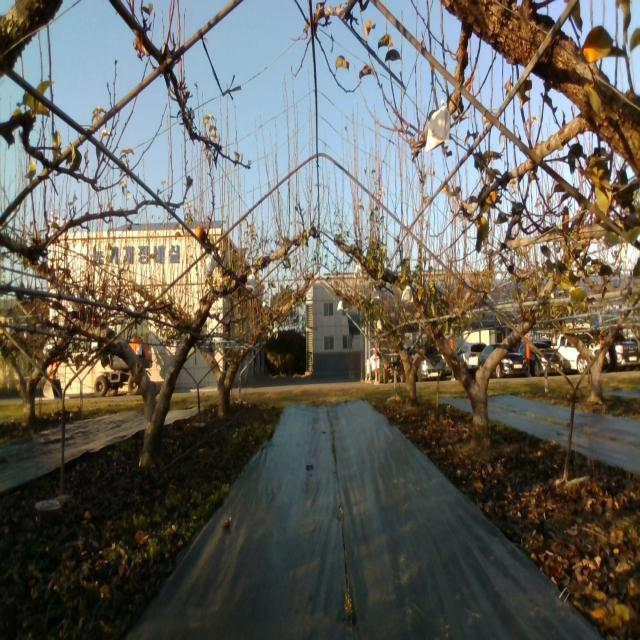pearbags: (425, 100, 451, 153), (205, 251, 215, 278), (401, 285, 414, 303)
